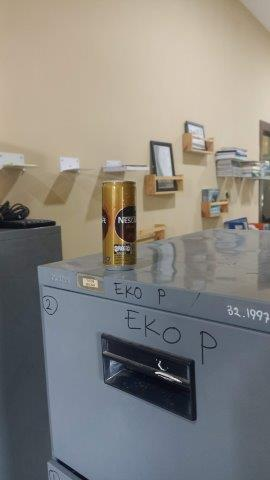kaleng: (100, 181, 137, 269)
